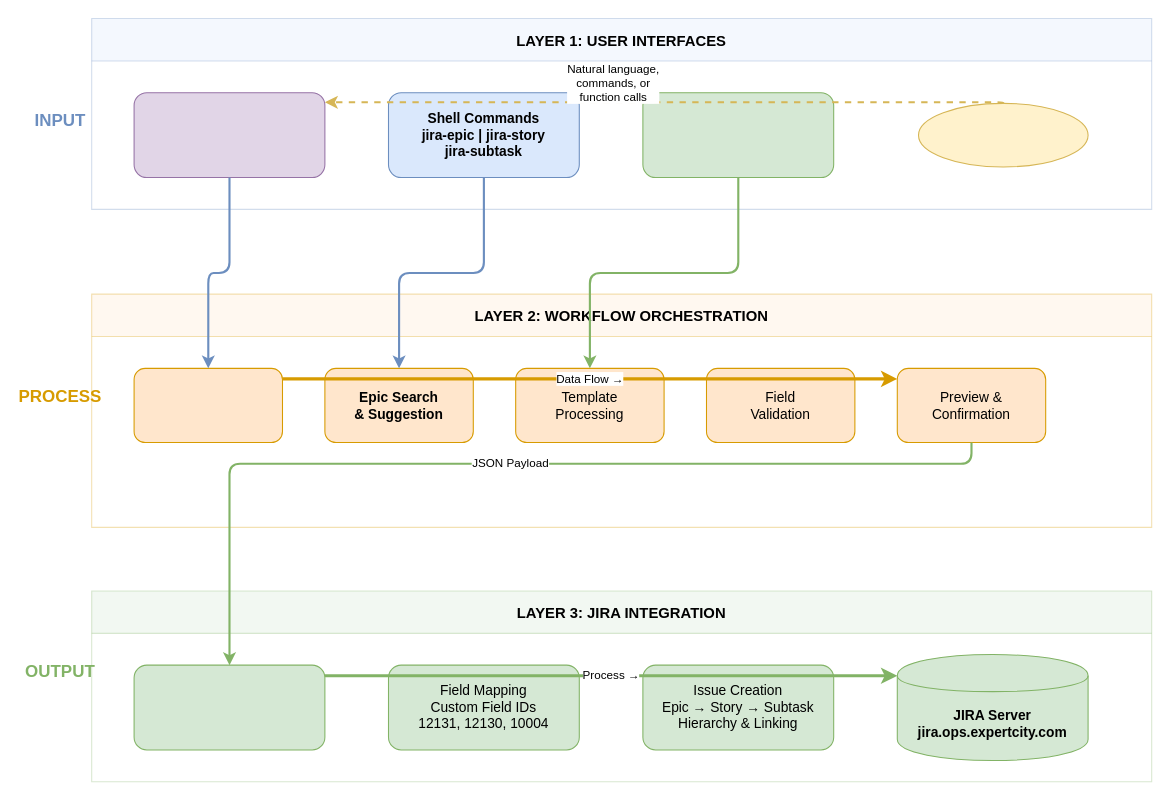
Some shapes in this 1170 by 800 pixel diagram are drawn without their labels. The shapes that lost their labels are listed below. From the top down, each one's box as (x1, y1, x2, y2) in pixels, then its label:
(133, 92, 325, 178): Natural Language (Claude Code Skill)
(642, 92, 834, 178): Programmatic API create_epic() create_story() create_subtask()
(917, 102, 1088, 167): USER
(133, 367, 282, 443): Interactive Prompts
(133, 664, 325, 750): JIRA REST API /rest/api/2/issue
